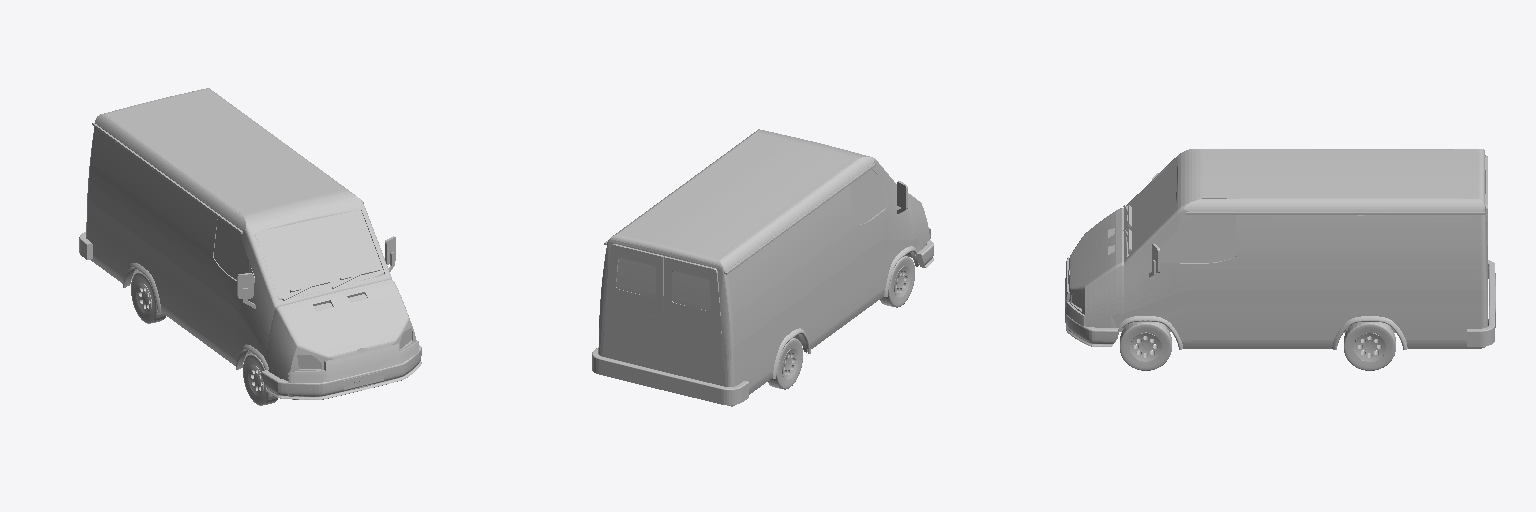
File: van.obj
3 views of the same model, side by side, from view 1: azimuth 30°, elevation 25°; view 2: azimuth 150°, elevation 25°; view 3: azimuth 270°, elevation 25° (orthographic).
Visible parts, largest first — view 1: VAN, f, bumper, G, w01, W, E01, L03; view 2: VAN, Object, DOOR01, DOOR, w01, E01, W, L03; view 3: VAN, w, f, E02, E03, Object, bumper, L02, 03.
Part boxes in pixels (x1,y1,x2,y2): VAN: (86,88,416,396); f: (256,210,383,297); bumper: (261,345,421,399); G: (288,341,418,382); w01: (214,217,254,282); W: (131,272,165,323); E01: (243,354,277,405); L03: (92,123,242,233); VAN: (598,129,929,406); Object: (592,347,748,404); DOOR01: (664,256,721,347); DOOR: (605,244,664,329); w01: (850,169,892,224); E01: (880,256,914,307); W: (768,338,802,389); L03: (724,163,875,274); VAN: (1068,149,1487,348); w: (1160,215,1235,262); f: (1127,159,1175,254); E02: (1344,322,1395,370); E03: (1120,322,1171,370); Object: (1467,260,1495,346); bumper: (1065,308,1118,346); L02: (1186,212,1484,214); 03: (1332,316,1407,349).
Bounding box in the file's own units: 2088 × 2086 × 4934.